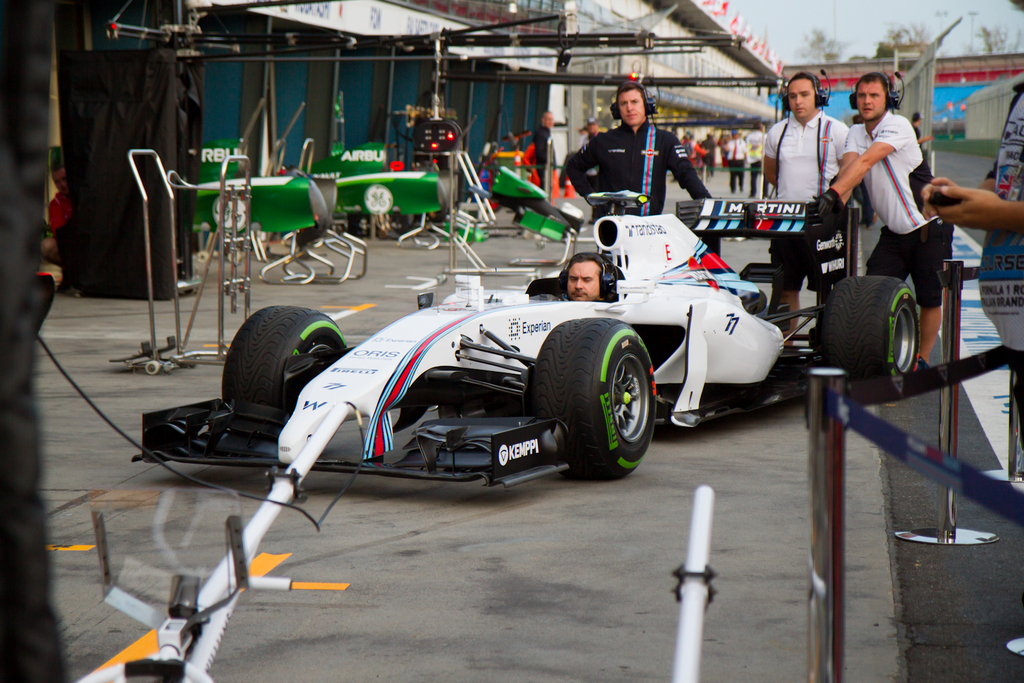Person: (919, 0, 1024, 462), (813, 70, 955, 373), (762, 70, 852, 357), (561, 80, 714, 218), (563, 252, 616, 300), (534, 112, 557, 206), (717, 129, 750, 194)
